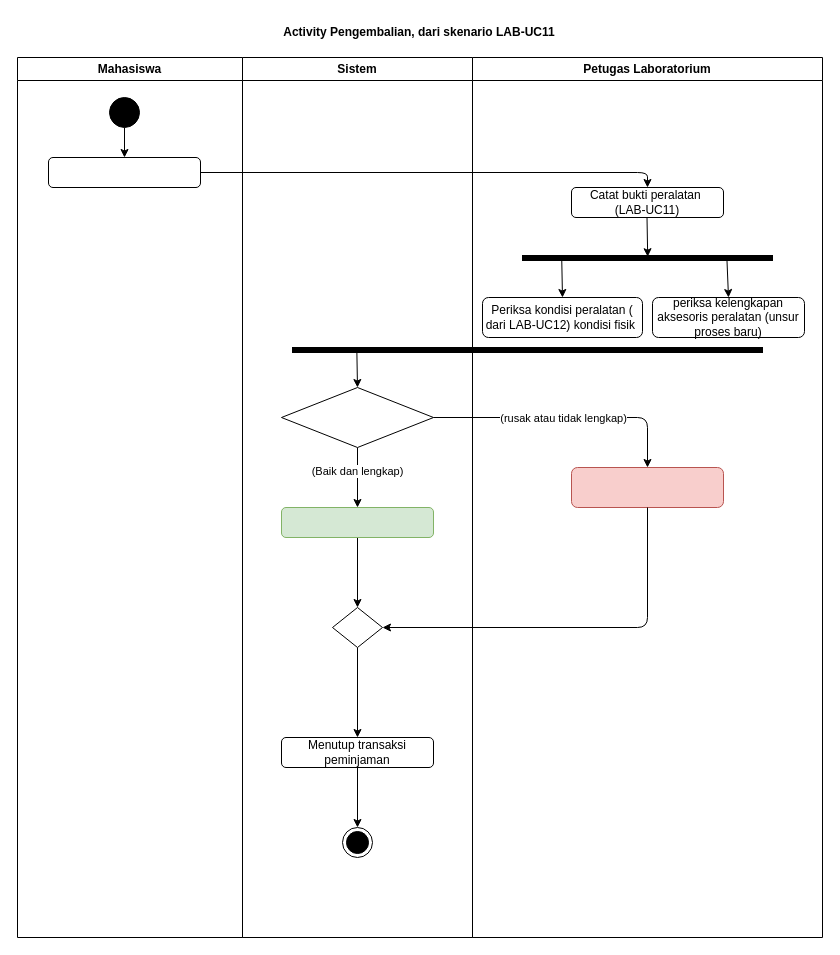
The diagram is 840 pixels wide and 955 high, and some of its shapes have lost their labels. The centre of each missing label's shape, as x and y in pixels:
"catat kerusakan atau kekurangan dan jadwal perbaikan" goes at point (647, 487).
"Kondisi peralatan baik dan lengkap" goes at point (357, 417).
"Menyerahkan Alat yang di pinjam" goes at point (124, 172).
"Perbaharui status menjadi tersedia" goes at point (357, 522).
